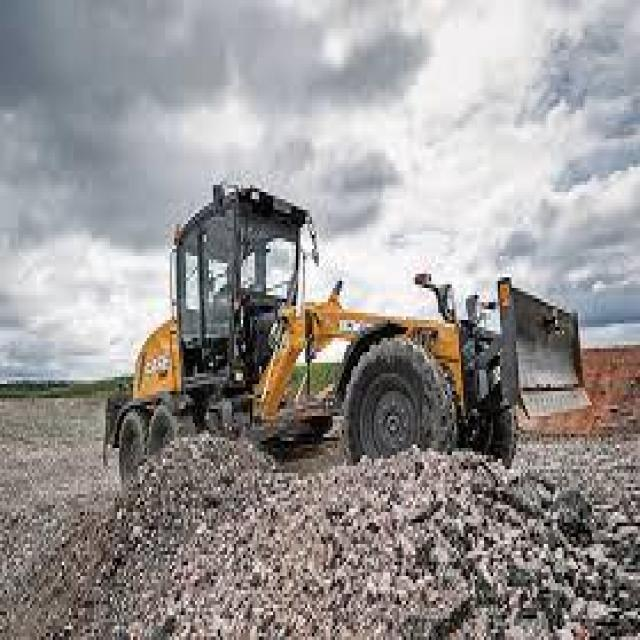Grader: (53, 163, 622, 473)
